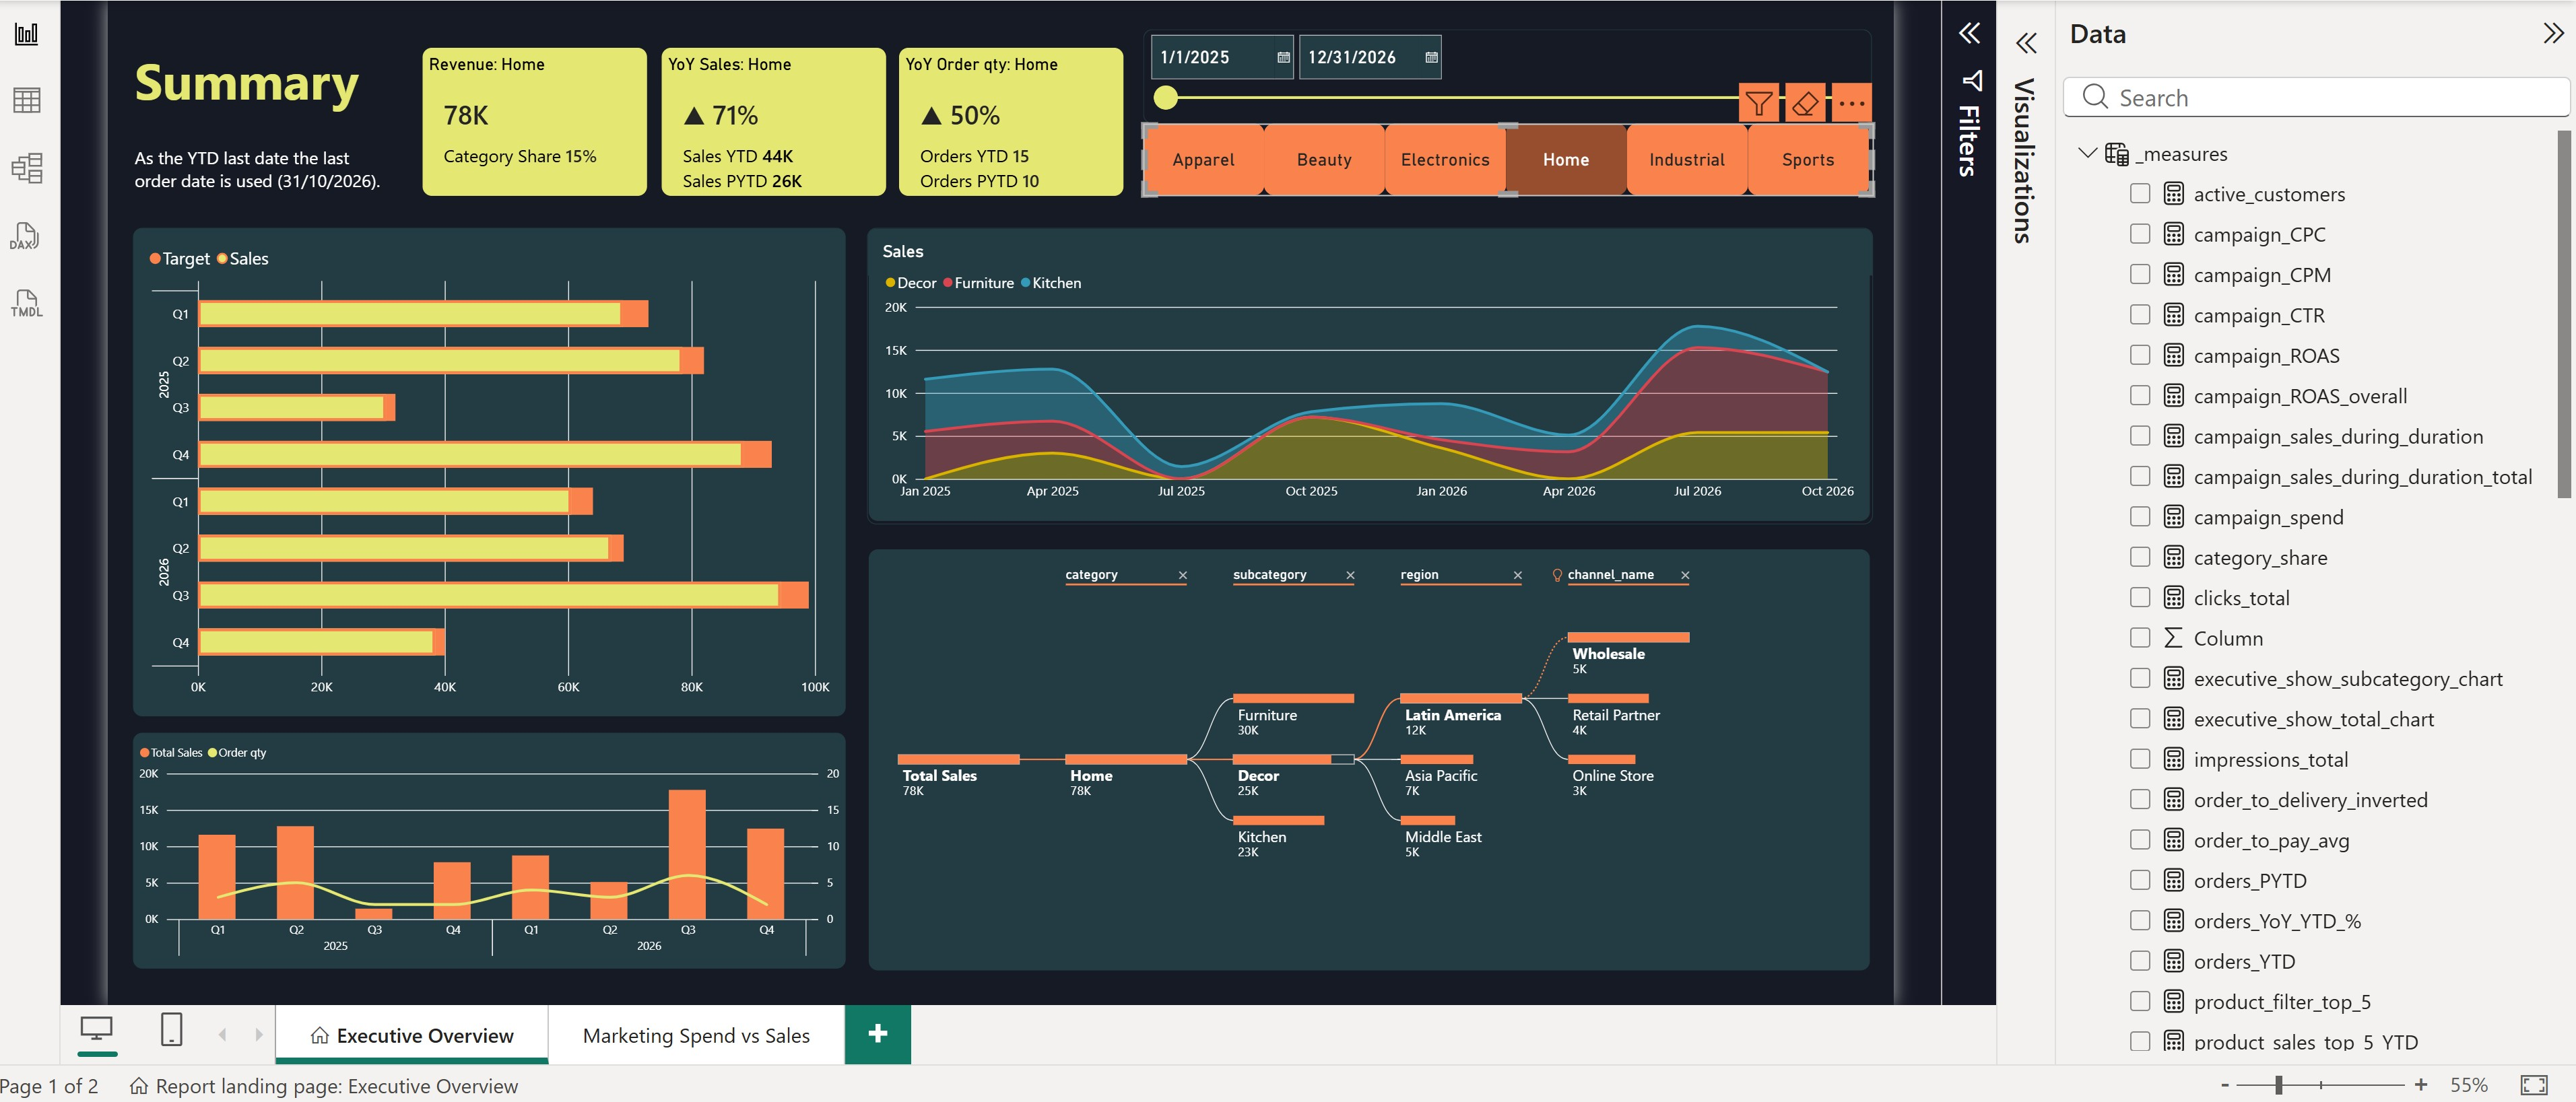

Layout of this report page (visuals, bound fields, positions):
{"tool":"powerbi","page":{"name":"Executive Overview","canvas":[1920,1080],"ordinal":0},"visuals":[{"type":"slicer","fields":{"Values":["dim_date.date"]},"box":[1113.1,30.4,783.4,101.8],"z":0},{"type":"decompositionTreeVisual","fields":{"Analyze":["Sum(fact_sales.line_total)"],"ExplainBy":["dim_products.category","dim_products.subcategory","dim_geo.region","dim_channels.channel_name"]},"box":[818.7,590.5,1075.9,452.8],"z":1000},{"type":"lineClusteredColumnComboChart","fields":{"Category":["dim_date.date.Variation.Date Hierarchy.Year","dim_date.quarter_short","dim_date.month_short"],"Y":["Sum(fact_sales.line_total)"],"Y2":["_measures.total_no_orders"]},"box":[27.2,787.9,766.2,253.6],"z":2000},{"type":"advancedSlicerVisual","fields":{"Values":["dim_products.category"]},"box":[1113.6,131.9,784.3,77.9],"z":3000},{"type":"cardVisual","fields":{"Data":["_measures.total_order_value"]},"box":[338.6,49.8,241,159.4],"z":4000},{"type":"cardVisual","fields":{"Data":["_measures.sales_YoY_YTD_%"]},"box":[594.9,49.8,241,159.4],"z":5000},{"type":"cardVisual","fields":{"Data":["_measures.orders_YoY_YTD_%"]},"box":[851.2,49.8,241,159.4],"z":6000},{"type":"textbox","box":[29,48.9,260.8,70.6],"z":7000},{"type":"clusteredBarChart","fields":{"Category":["dim_date.date.Variation.Date Hierarchy.Year","dim_date.quarter_short","dim_date.month_short"],"Y":["Sum(fact_sales_targets.target_revenue)","Sum(fact_sales.line_total)"]},"box":[27.2,244.5,766.2,525.3],"z":8000},{"type":"stackedAreaChart","fields":{"Category":["dim_date.date.Variation.Date Hierarchy.Year","dim_date.date.Variation.Date Hierarchy.Quarter","dim_date.date.Variation.Date Hierarchy.Month"],"Series":["dim_products.subcategory"],"Y":["_measures.total_order_value_with_0"]},"box":[818.7,271.7,1075.9,288],"z":9000},{"type":"stackedAreaChart","title":"Sales","fields":{"Category":["dim_date.date.Variation.Date Hierarchy.Year","dim_date.date.Variation.Date Hierarchy.Quarter","dim_date.date.Variation.Date Hierarchy.Month"],"Y":["_measures.total_order_value_with_0"]},"box":[816.9,244.5,1081.4,318.8],"z":10000},{"type":"textbox","box":[29,155.8,277.1,54.3],"z":11000}]}

Visuals, with their boxes on the page's 1920x1080 design canvas (x1, y1, x2, y2). These are canvas units, not pixel positions in the 2576x1102 screenshot, which may show the page scaled, cropped or inside an application window:
slicer - dim_date.date: 1113, 30, 1896, 132
decompositionTreeVisual - Sum(fact_sales.line_total) x dim_products.category: 819, 590, 1895, 1043
lineClusteredColumnComboChart - dim_date.date.Variation.Date Hierarchy.Year x dim_date.quarter_short: 27, 788, 793, 1042
advancedSlicerVisual - dim_products.category: 1114, 132, 1898, 210
cardVisual - _measures.total_order_value: 339, 50, 580, 209
cardVisual - _measures.sales_YoY_YTD_%: 595, 50, 836, 209
cardVisual - _measures.orders_YoY_YTD_%: 851, 50, 1092, 209
textbox: 29, 49, 290, 120
clusteredBarChart - dim_date.date.Variation.Date Hierarchy.Year x dim_date.quarter_short: 27, 244, 793, 770
stackedAreaChart - dim_date.date.Variation.Date Hierarchy.Year x dim_date.date.Variation.Date Hierarchy.Quarter: 819, 272, 1895, 560
"Sales" stackedAreaChart: 817, 244, 1898, 563
textbox: 29, 156, 306, 210
